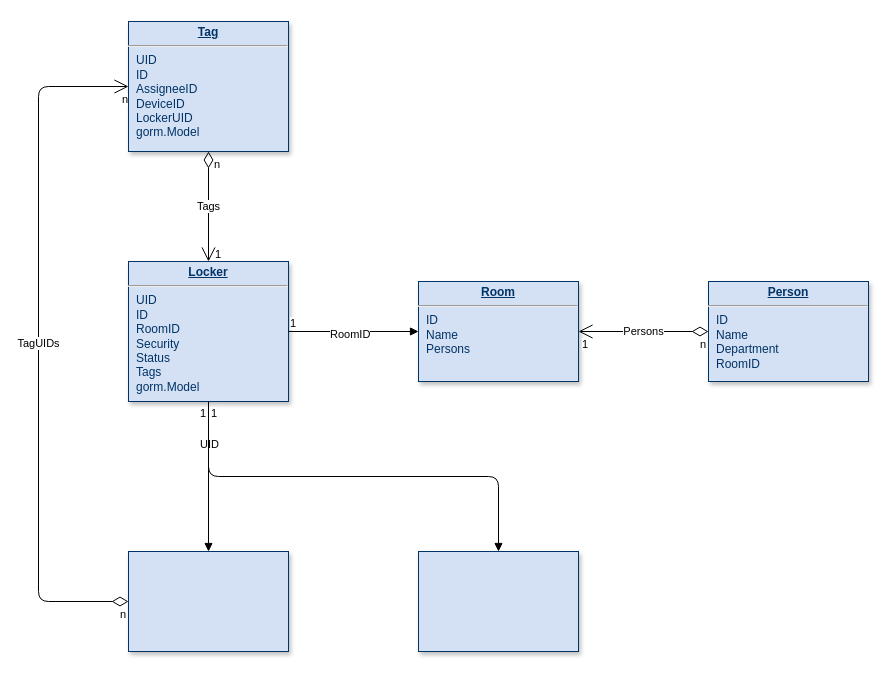
Image size: 892x676. Some labels were removed from this diagram. The centre of each missing label's shape, as x and y in pixels:
"LockerDoorEvent LockerUID ClosedTime Duration gorm.Model" goes at (499,602).
"LockerRecord LockerUID TagUIDs Weight gorm.Model" goes at (209,602).
